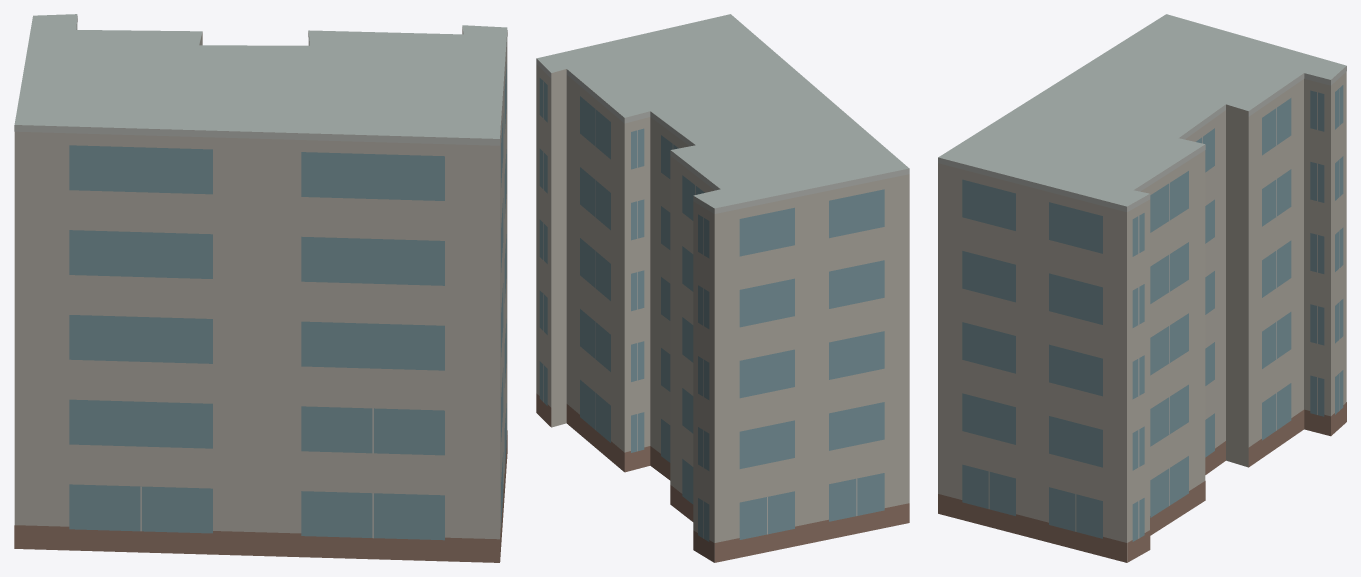
File: survey-upis-32725945.glb
3 renders of one model, left to right at view 1: azimuth 30°, elevation 25°; view 2: azimuth 150°, elevation 25°; view 3: azimuth 270°, elevation 25°, orthographic. The views are drawn at different scales.
Visible parts, largest first — view 1: survey-upis-32725945.tmp; view 2: survey-upis-32725945.tmp; view 3: survey-upis-32725945.tmp.
Part boxes in pixels (<box>): survey-upis-32725945.tmp: <box>14,14,507,562</box>; survey-upis-32725945.tmp: <box>536,14,909,562</box>; survey-upis-32725945.tmp: <box>938,14,1346,562</box>.
Bounding box in the file's own units: 17.69 × 15.25 × 15.86.
